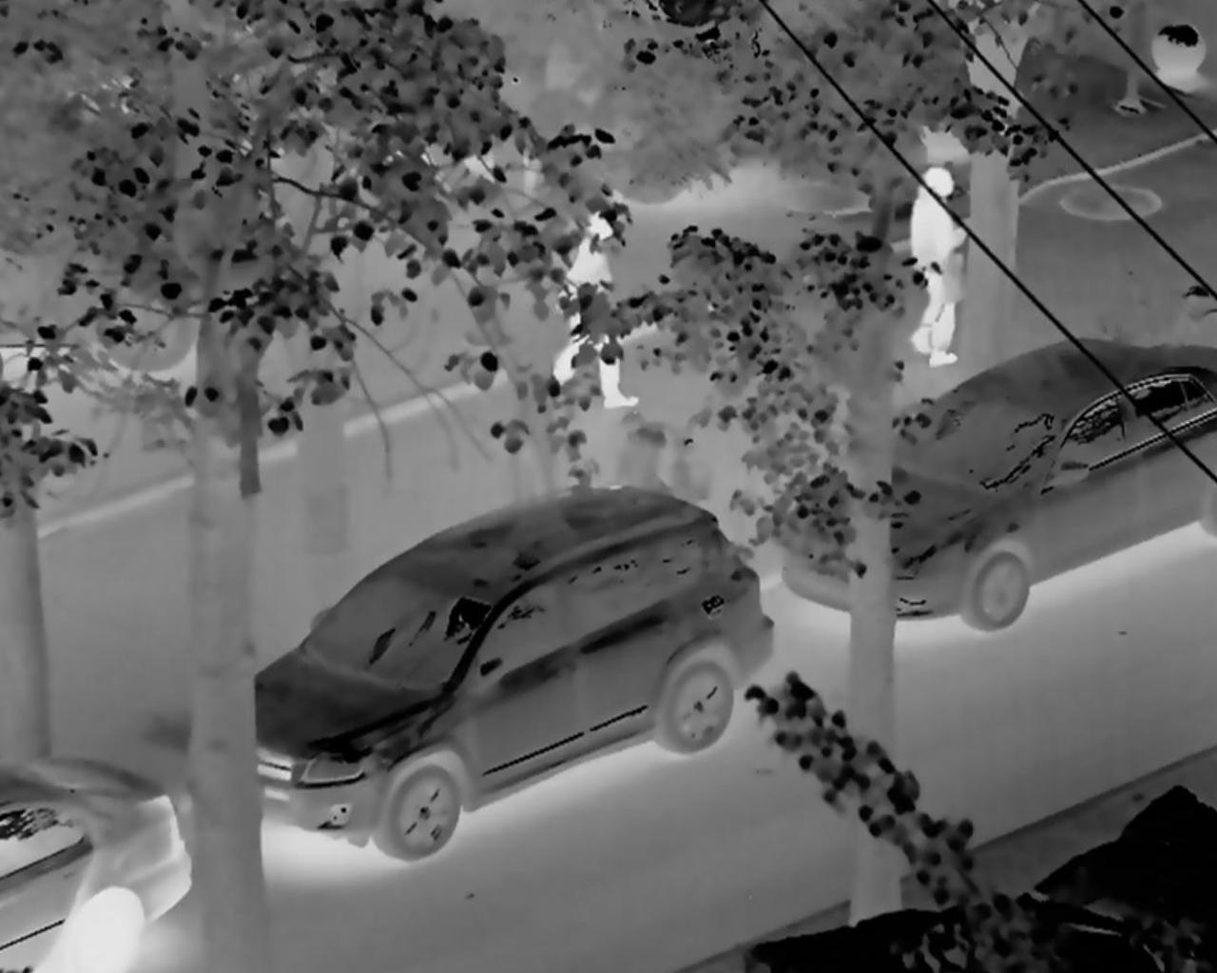person: (546, 191, 647, 426), (895, 164, 976, 373)
